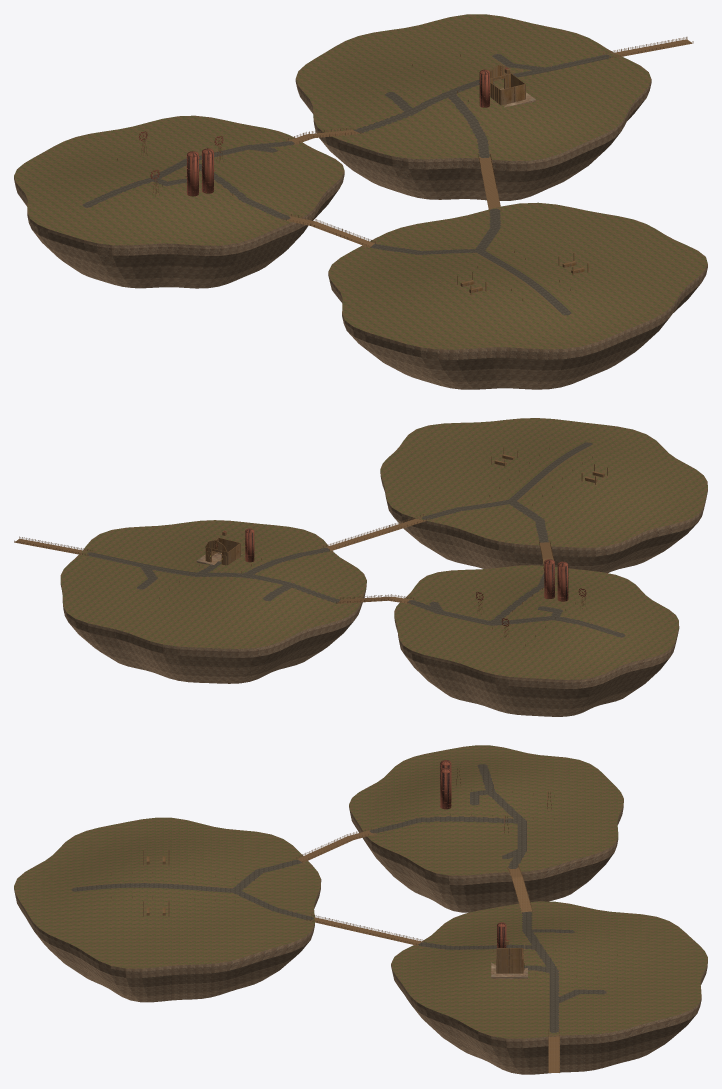
The model's file is highland-farms-distant.glb.
3 renders of one model, top to bottom at view 1: azimuth 30°, elevation 25°; view 2: azimuth 150°, elevation 25°; view 3: azimuth 270°, elevation 25°, orthographic. The views are drawn at different scales.
Visible parts, largest first — view 1: Campos Altos rolling solid terrain, Highland connected earth trails; view 2: Campos Altos rolling solid terrain, Highland connected earth trails; view 3: Campos Altos rolling solid terrain, Highland connected earth trails.
Part boxes in pixels (x1,y1,x2,y2): Campos Altos rolling solid terrain: (14,14,707,389); Highland connected earth trails: (82,54,611,315); Campos Altos rolling solid terrain: (14,418,707,716); Highland connected earth trails: (87,442,625,637); Campos Altos rolling solid terrain: (14,745,707,1074); Highland connected earth trails: (71,764,606,1032).
Bounding box in the file's own units: 464 × 80.25 × 436.
Materials: 9 (8 with a texture image).
